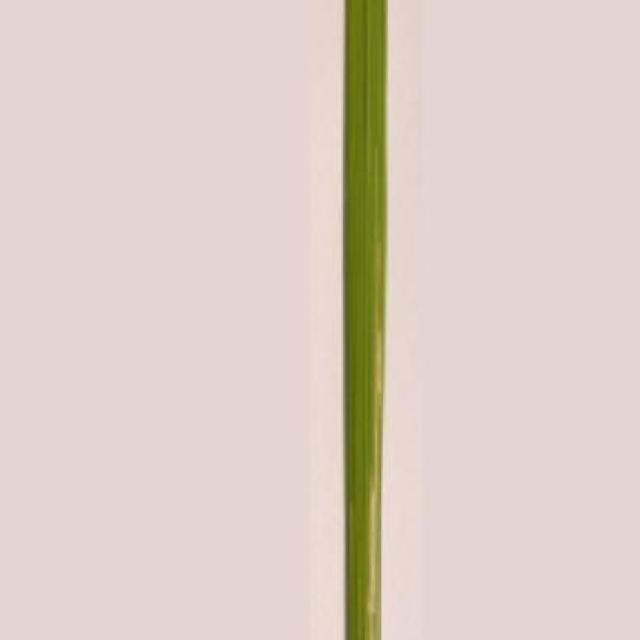Brown_Spot: (341, 0, 392, 640)
